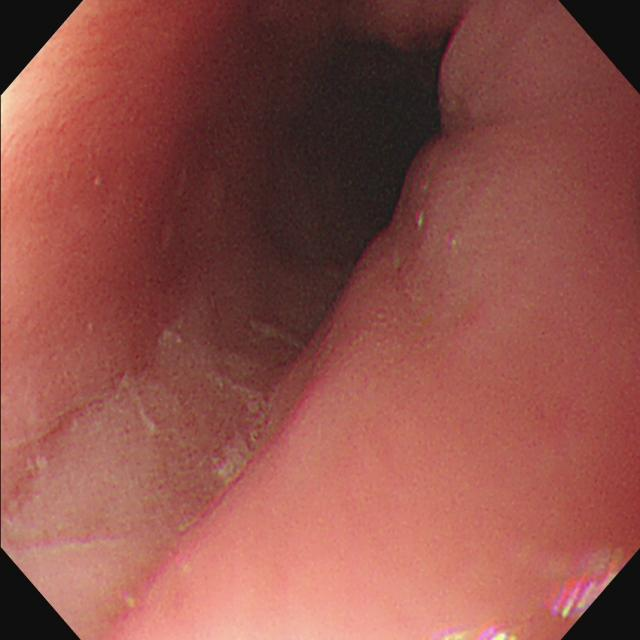E: (243, 20, 470, 271)
U: (545, 558, 620, 619), (439, 621, 521, 640)
